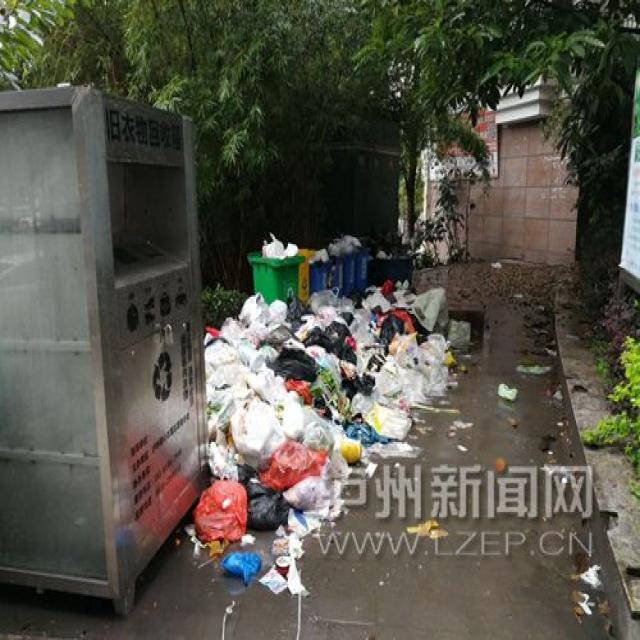garbage: (186, 278, 470, 599)
overflow: (250, 232, 300, 302), (330, 234, 369, 293), (307, 246, 330, 288)
